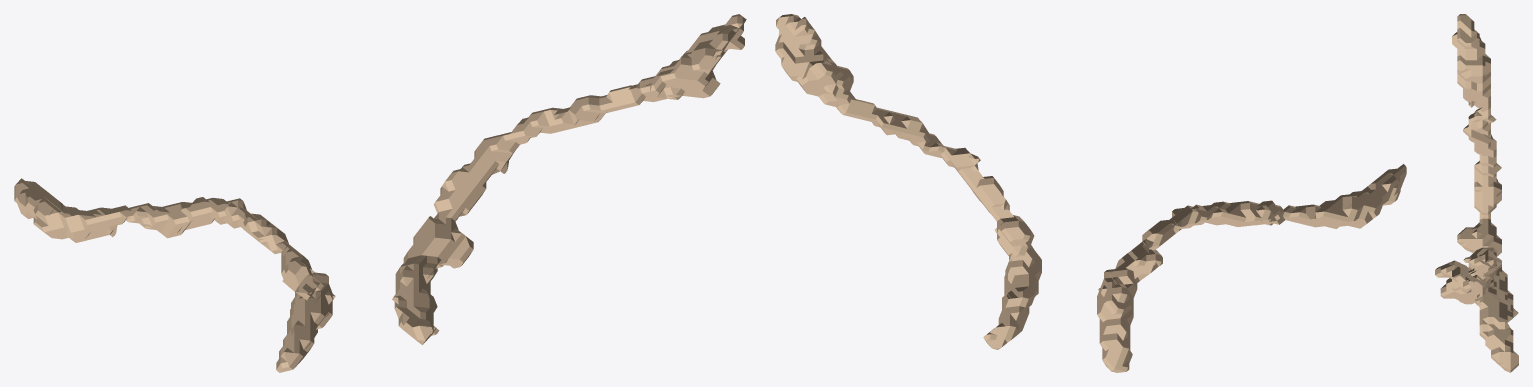
Rendered from region_0192_VIIs__sensory_root_of_the_facial_nerve_.glb.
3 renders of one model, left to right at view 1: azimuth 30°, elevation 25°; view 2: azimuth 150°, elevation 25°; view 3: azimuth 270°, elevation 25°, orthographic. The views are drawn at different scales.
Visible parts, largest first — view 1: world; view 2: world; view 3: world.
Part boxes in pixels (<box>): world: <box>14,14,746,372</box>; world: <box>775,14,1406,372</box>; world: <box>1435,14,1518,372</box>.
Size of the model in its own units: 0.848 by 0.328 by 0.12.
